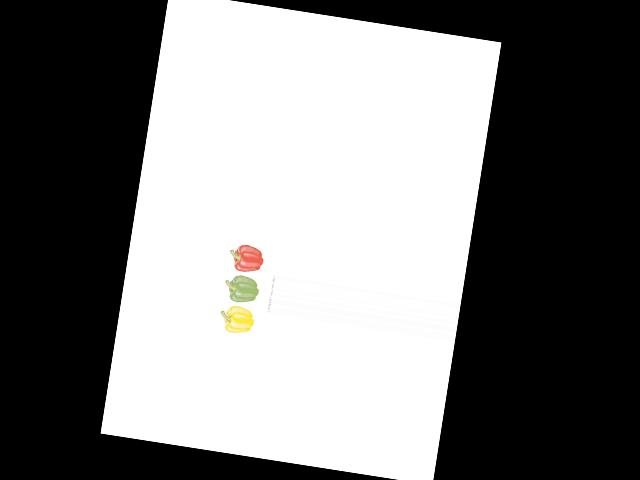bell_pepper: (218, 302, 259, 337)
